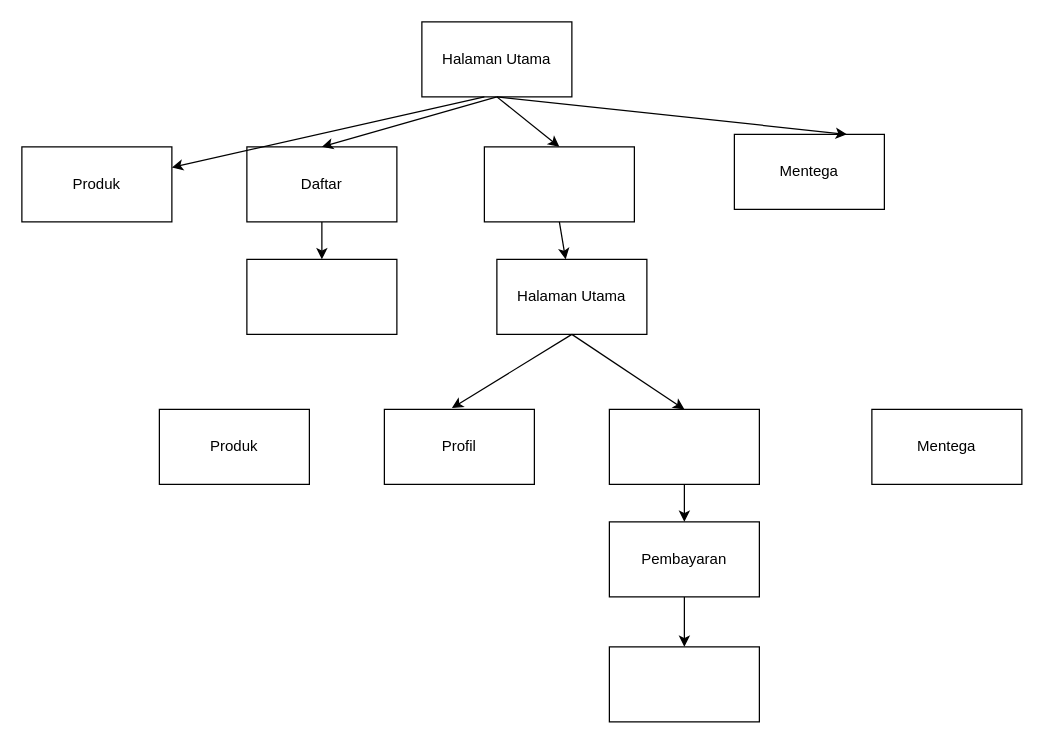
The diagram is 1044 pixels wide and 744 high, and some of its shapes have lost their labels. The shapes that lost their labels are listed below. From the top down, each one's centre as x and y in pixels, then its label:
At (558,184): "Masuk".
At (321,296): "Form Pendaftaran".
At (683,446): "Keranjang Belanja".
At (683,684): "Status Pembayaran".
